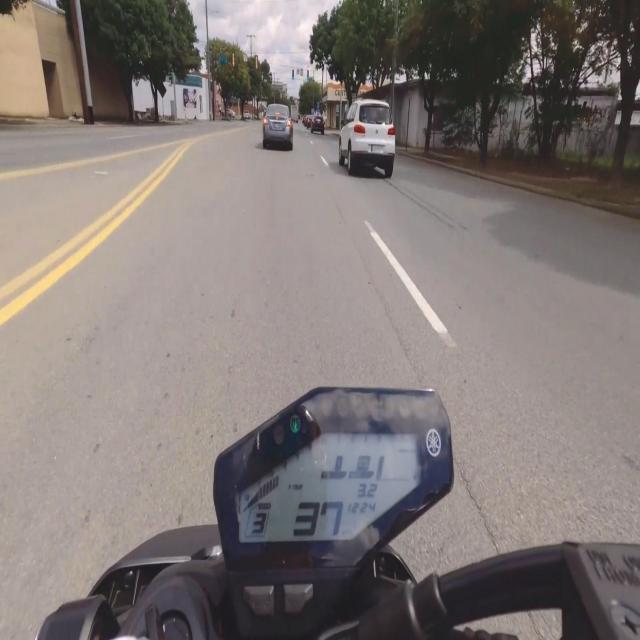car: (339, 99, 395, 178), (263, 104, 293, 150), (310, 115, 324, 135)
motorcycle: (37, 388, 639, 639)
